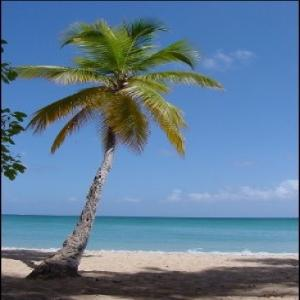palm tree: (10, 16, 223, 280)
